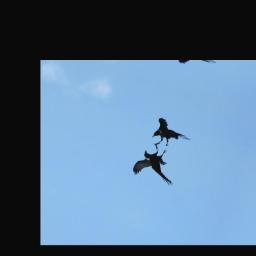Crow: (130, 138, 185, 188)
